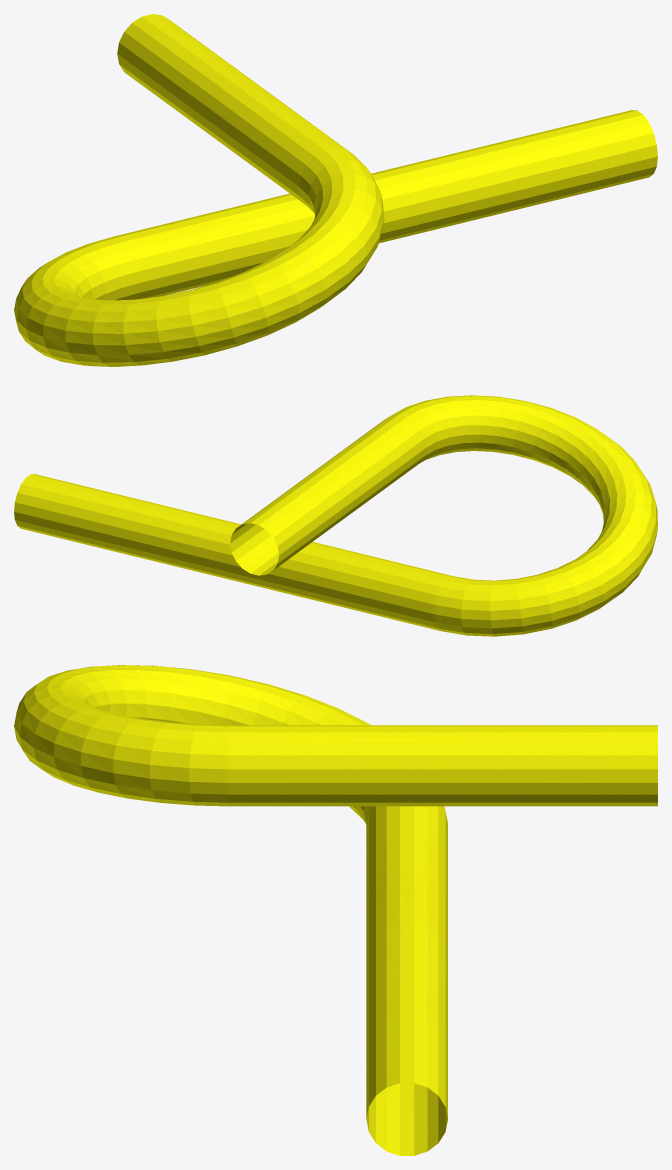
The model's file is alpha_env.dae.
3 views of the same model, one above another, from view 1: azimuth 30°, elevation 25°; view 2: azimuth 150°, elevation 25°; view 3: azimuth 270°, elevation 25° (orthographic). The views are drawn at different scales.
Parts seen in each view (by area): view 1: instance_1 (×33); view 2: instance_1 (×34); view 3: instance_1 (×33).
Boxes of the visible parts, left/top/right/bottom form: instance_1 (×33): left=115, top=14, right=657, bottom=299; instance_1 (×34): left=14, top=415, right=453, bottom=630; instance_1 (×33): left=230, top=726, right=657, bottom=1155.
Size of the model in its own units: 60.63 by 42.63 by 15.02.
